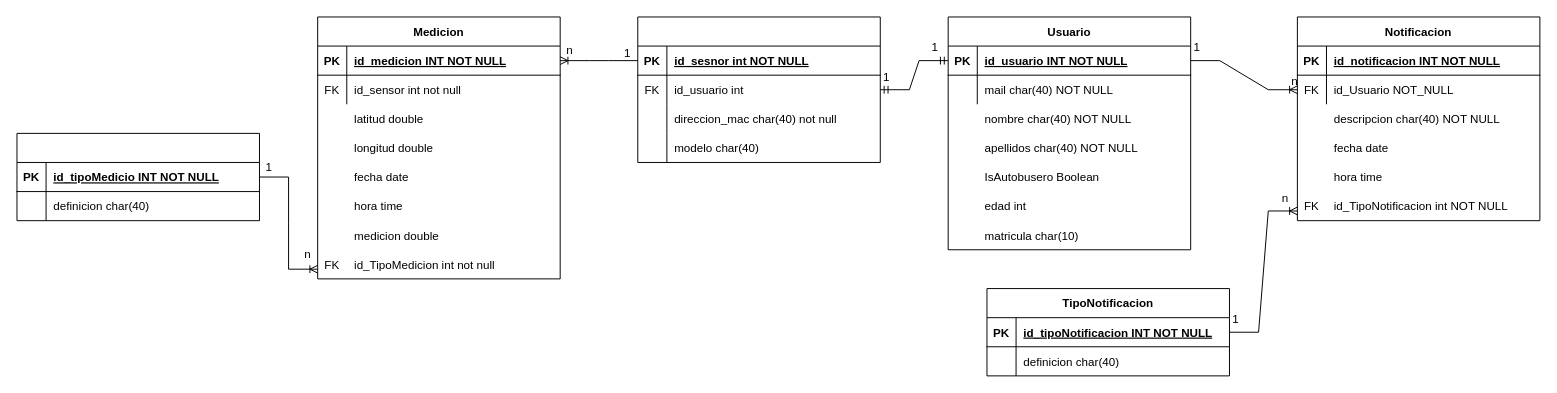
The diagram is 1557 pixels wide and 393 high, and some of its shapes have lost their labels. Each missing label, with the box of its shape:
Sensor: (637, 16, 880, 162)
TipoMedicion: (16, 132, 259, 221)
